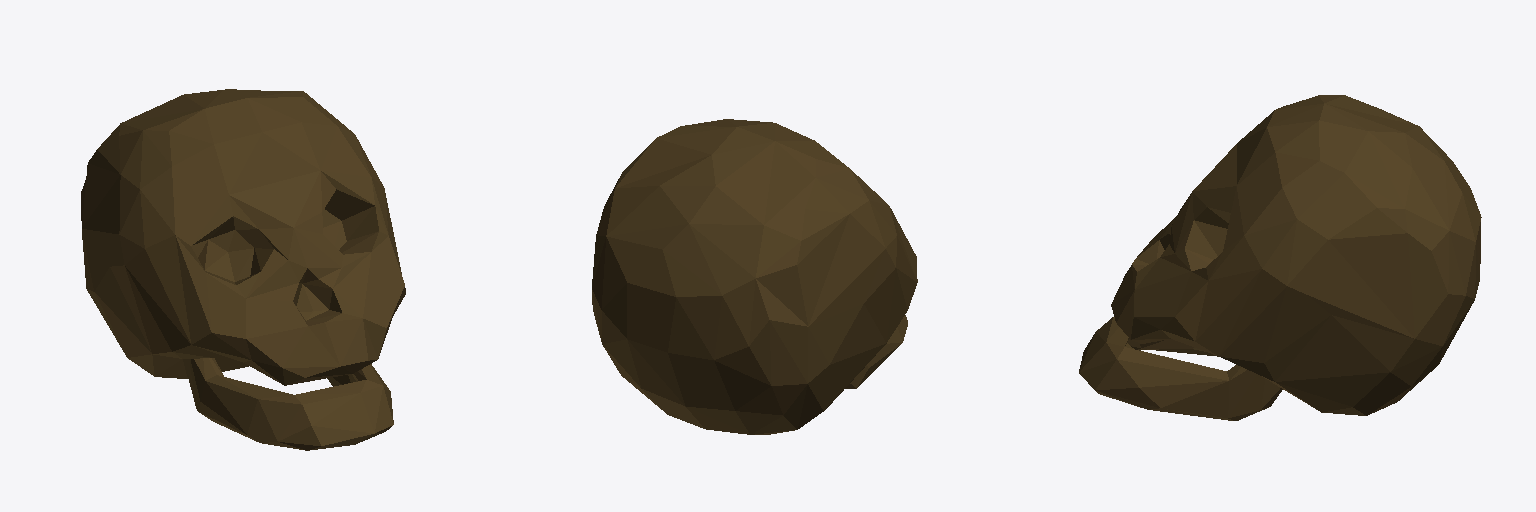
File: Skull.obj
The picture shows the model from 3 angles: view 1: azimuth 30°, elevation 25°; view 2: azimuth 150°, elevation 25°; view 3: azimuth 270°, elevation 25°; orthographic projection.
Parts seen in each view (by area): view 1: Skull_Cylinder.043; view 2: Skull_Cylinder.043; view 3: Skull_Cylinder.043.
Part boxes in pixels (x1,y1,x2,y2): Skull_Cylinder.043: (81, 89, 405, 450); Skull_Cylinder.043: (592, 119, 917, 434); Skull_Cylinder.043: (1079, 95, 1481, 420).
Size of the model in its own units: 0.4436 by 0.4606 by 0.5966.